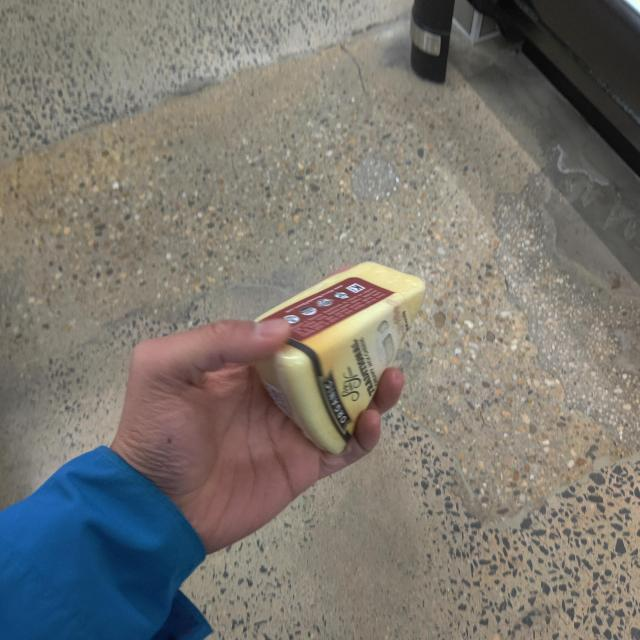Cheese: (232, 237, 456, 444)
